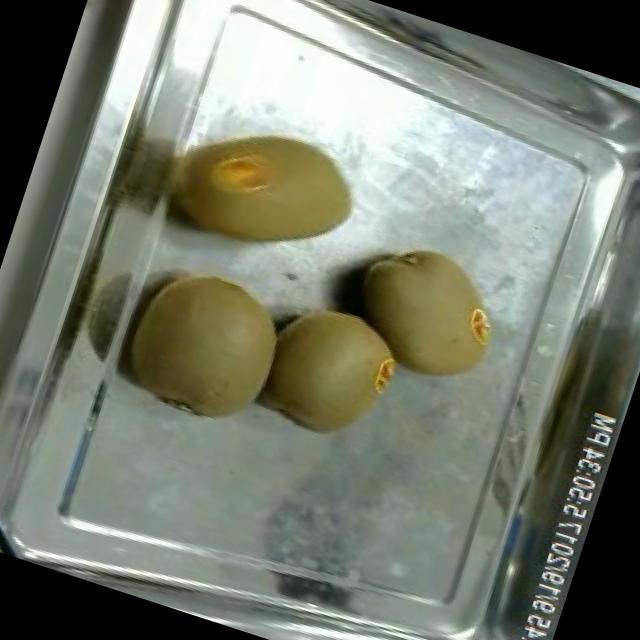Fruit: (159, 91, 383, 288), (108, 244, 306, 441), (330, 220, 524, 400), (244, 282, 416, 457), (77, 0, 164, 47)
